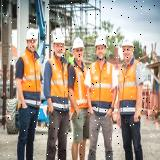Helmet: (94, 35, 107, 50), (72, 36, 85, 50), (25, 27, 38, 40), (52, 33, 66, 45), (121, 36, 135, 48)
Vest: (17, 49, 42, 108), (88, 60, 114, 116), (118, 59, 141, 117), (46, 55, 68, 110), (69, 61, 91, 114)
